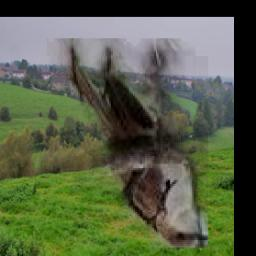Cuckoo: (47, 38, 208, 248)
